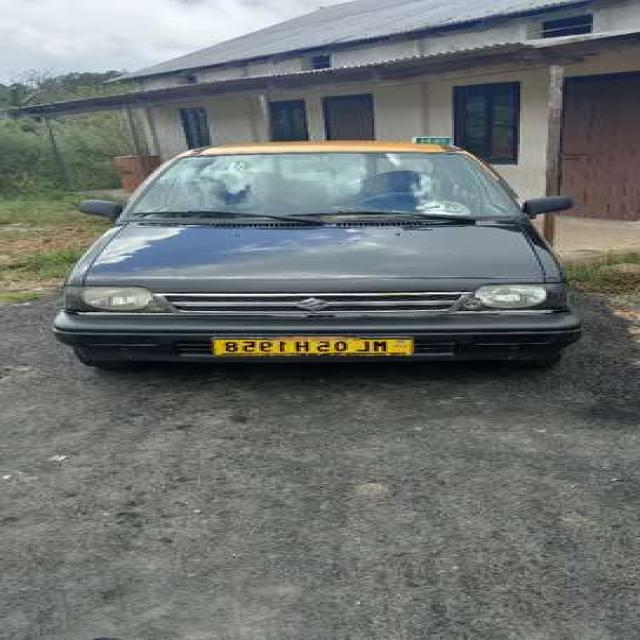license_plate: (203, 332, 422, 364)
